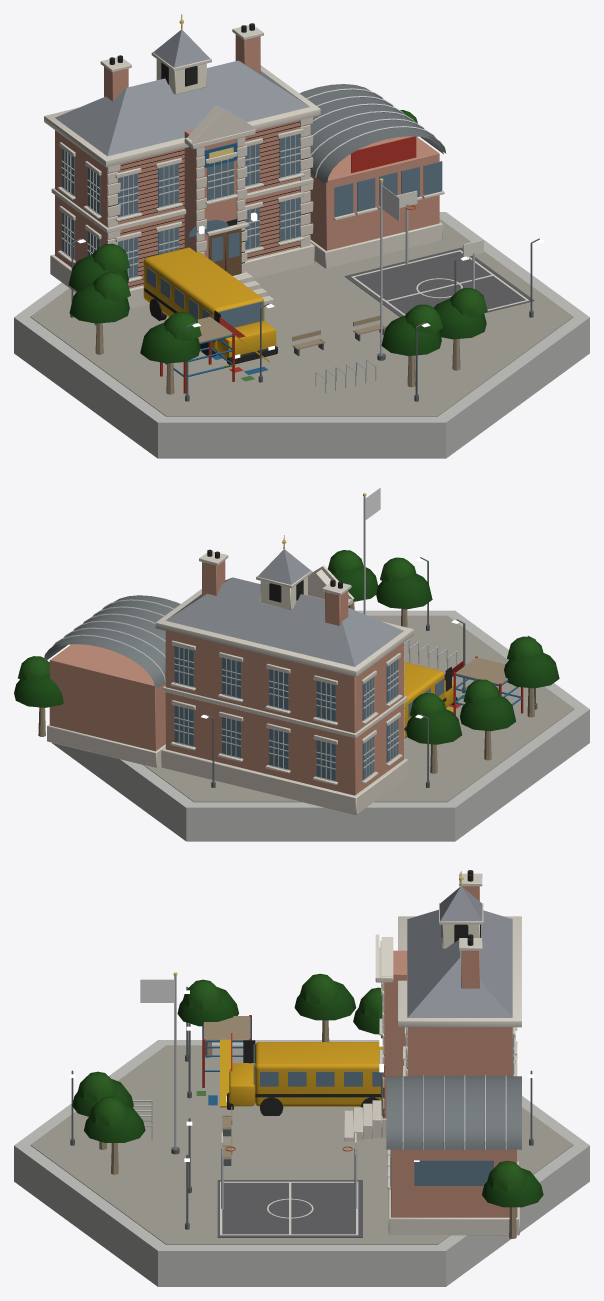
File: school.glb
3 views of the same model, one above another, from view 1: azimuth 30°, elevation 25°; view 2: azimuth 150°, elevation 25°; view 3: azimuth 270°, elevation 25° (orthographic). The views are drawn at different scales.
Visible parts, largest first — view 1: pavers, wall_concrete, brick, stone, roof_slate, glass, leaf, paint, asphalt, dark, wood, metal (+2 smaller); view 2: wall_concrete, brick, stone, pavers, leaf, roof_slate, glass, paint, wood, metal, steel_dark, plaster (+1 smaller); view 3: pavers, wall_concrete, brick, leaf, roof_slate, paint, stone, asphalt, glass, wood, metal, dark (+2 smaller).
Boxes of the visible parts, box(x1,y1,x2,y2) form: pavers: box(30, 219, 573, 416); wall_concrete: box(14, 84, 589, 458); brick: box(55, 34, 439, 288); stone: box(44, 25, 444, 308); roof_slate: box(55, 29, 309, 156); glass: box(62, 134, 442, 327); leaf: box(68, 110, 487, 363); paint: box(143, 136, 529, 393); asphalt: box(344, 247, 534, 316); dark: box(107, 23, 310, 364); wood: box(94, 228, 460, 394); metal: box(306, 88, 474, 393); wall_concrete: box(43, 595, 589, 841); brick: box(49, 560, 403, 795); stone: box(47, 551, 413, 814); pavers: box(143, 615, 574, 802); leaf: box(14, 550, 559, 744); roof_slate: box(166, 549, 403, 666); glass: box(174, 646, 444, 780); paint: box(404, 656, 523, 738); wood: box(38, 601, 534, 773); metal: box(52, 496, 456, 682); steel_dark: box(205, 557, 537, 787); plaster: box(260, 577, 307, 609); pavers: box(30, 1045, 573, 1244); wall_concrete: box(14, 995, 589, 1286); brick: box(384, 886, 517, 1217); leaf: box(72, 973, 543, 1207); roof_slate: box(407, 886, 512, 1017); paint: box(196, 1015, 382, 1235); stone: box(344, 873, 521, 1235); asphalt: box(217, 1180, 362, 1237); glass: box(253, 1037, 513, 1186); wood: box(99, 1016, 516, 1238); metal: box(133, 975, 506, 1209); dark: box(227, 870, 480, 1118).
Bounding box in the file's own units: 21.48 × 13.7 × 24.6.
